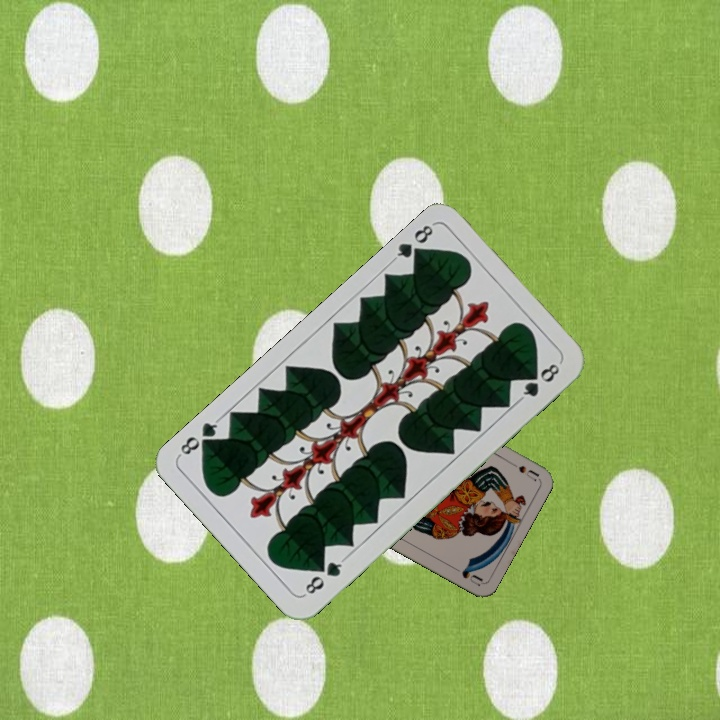G8: (388, 219, 436, 265), (300, 554, 348, 598)
SU: (502, 456, 541, 484)
